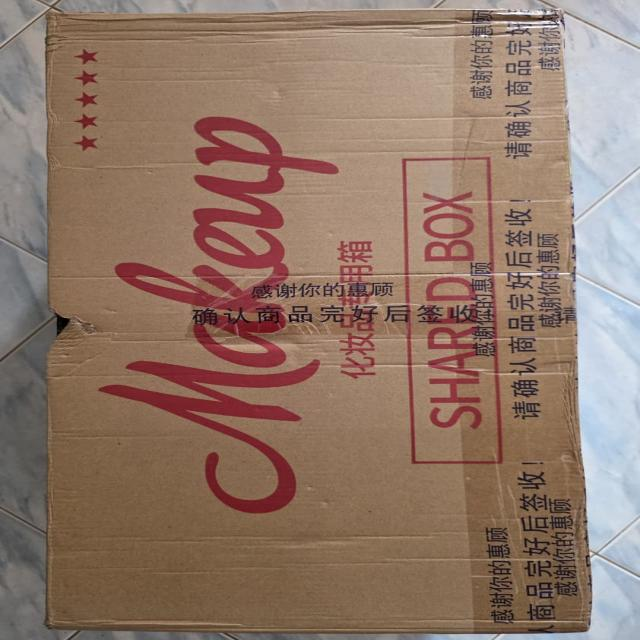carton_box: (15, 3, 610, 640)
